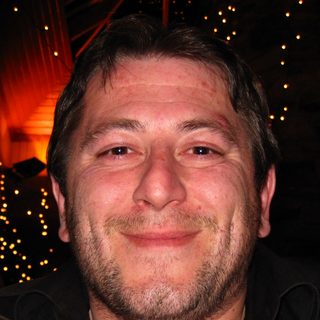eye: (93, 138, 140, 166), (179, 138, 222, 163)
